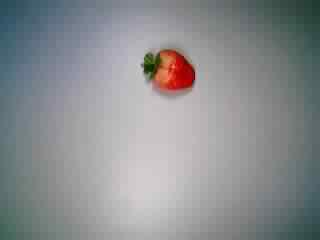strawberry: (134, 40, 200, 102)
